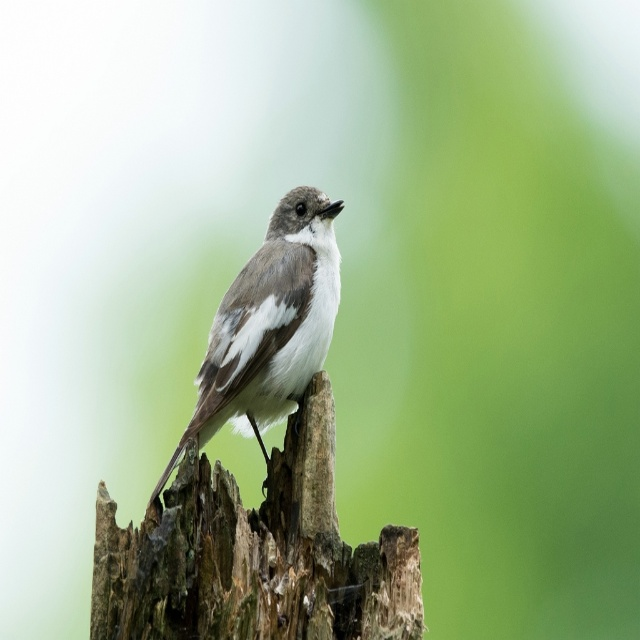Sparrow: (151, 181, 348, 506)
